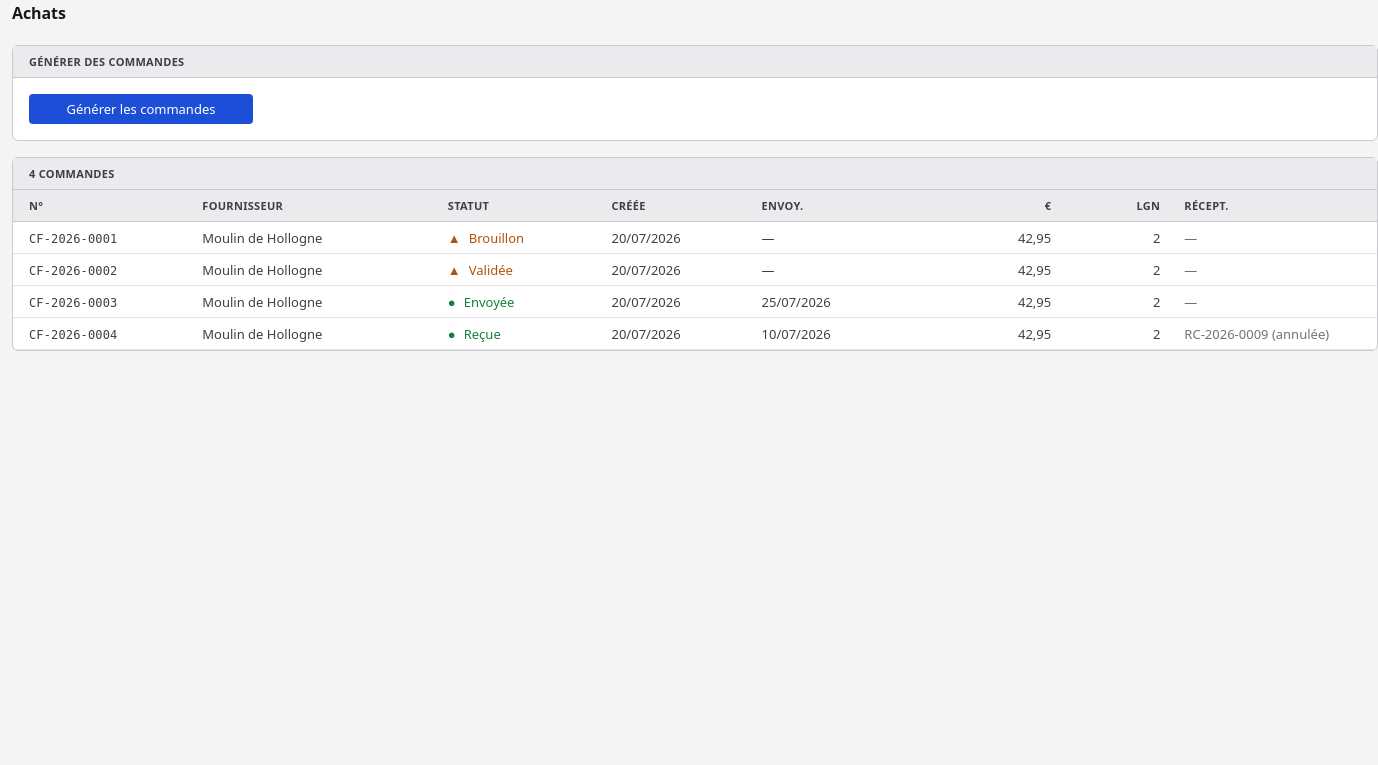
Scenario: Achats — D-009 : générer, valider, envoyer, dans cet ordre et pas un autre › valider un brouillon amène le focus SUR le champ d’adresse — l’étape suivante, pas `<body>`
Click the row "CF-2026-0001". click: click(695, 238)
box: [13, 222, 1377, 254]
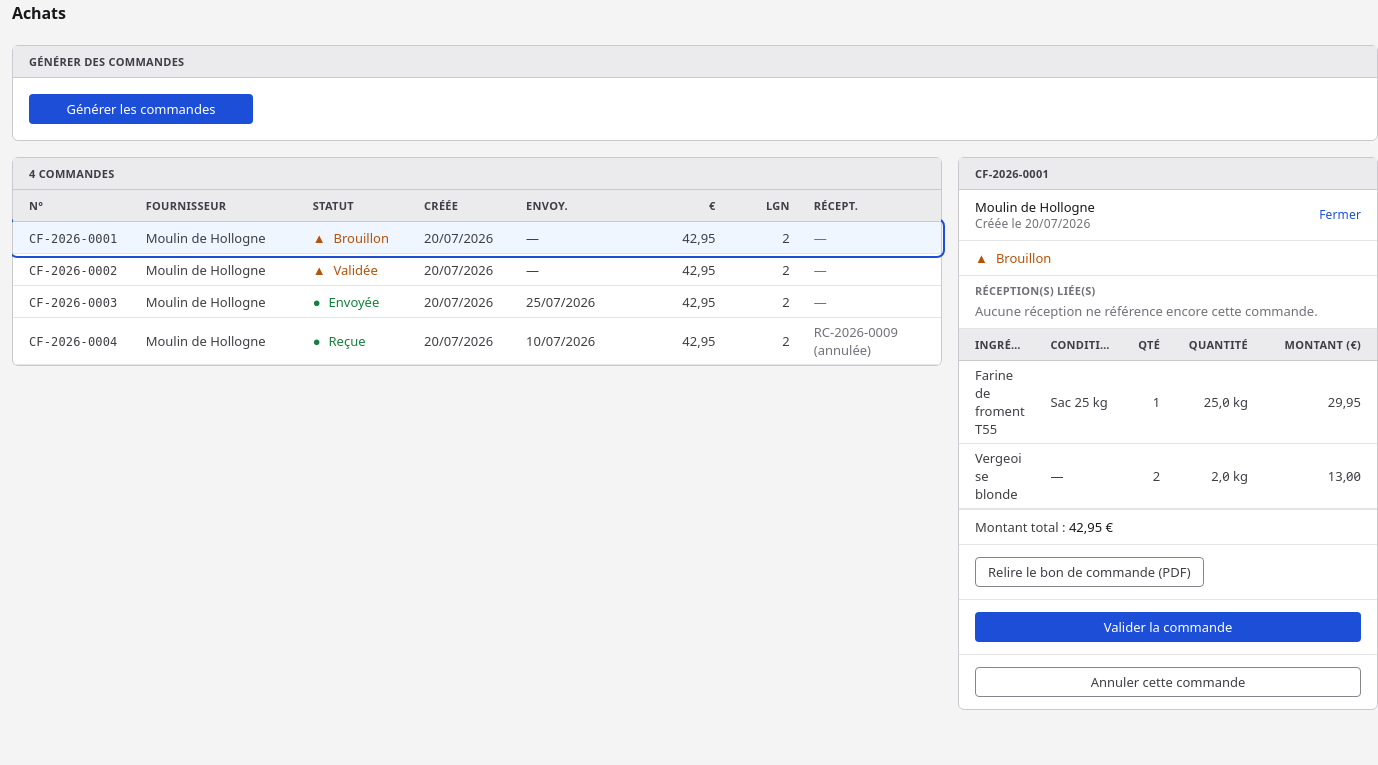
Result: the heading "CF-2026-0001" is shown at [959, 158, 1377, 190]
Click the button "Valider la commande". click: click(1168, 627)
box: [975, 612, 1361, 642]
(page scrolled)
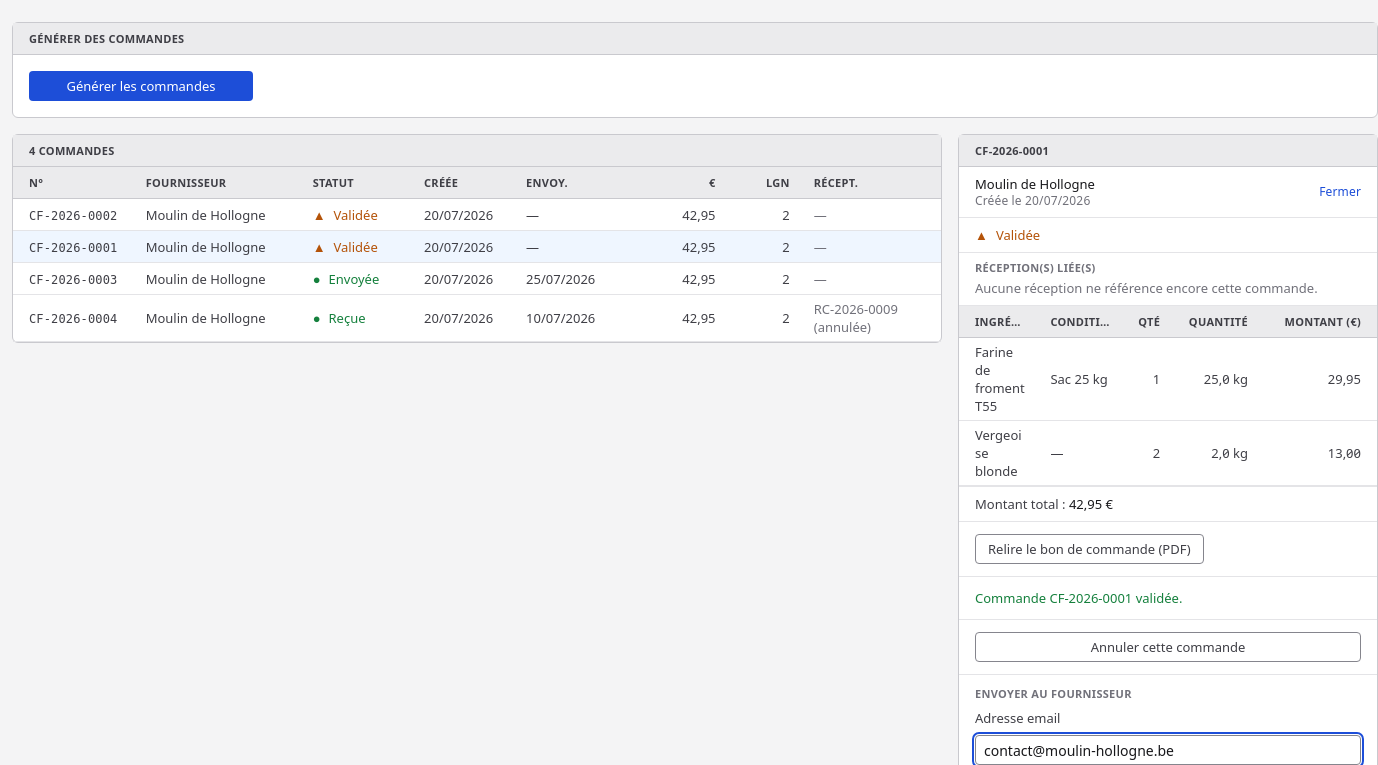
Result: the button "Valider la commande" is gone
